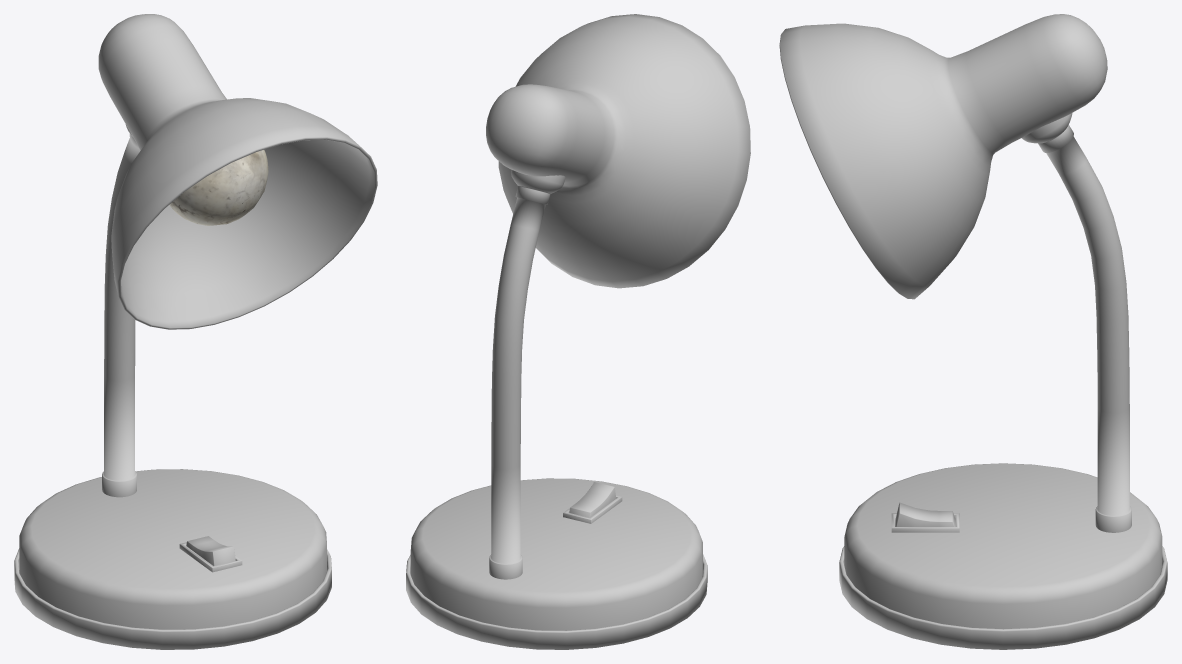
File: Desk_Lamp.fbx
3 renders of one model, left to right at view 1: azimuth 30°, elevation 25°; view 2: azimuth 150°, elevation 25°; view 3: azimuth 270°, elevation 25°, orthographic. The views are drawn at different scales.
Visible parts, largest first — view 1: Desk_Lamp; view 2: Desk_Lamp; view 3: Desk_Lamp.
Boxes of the visible parts, <box> form: Desk_Lamp: <box>14,14,377,649</box>; Desk_Lamp: <box>406,14,750,649</box>; Desk_Lamp: <box>779,14,1167,649</box>.
Bounding box in the file's own units: 17.76 × 33.52 × 21.
